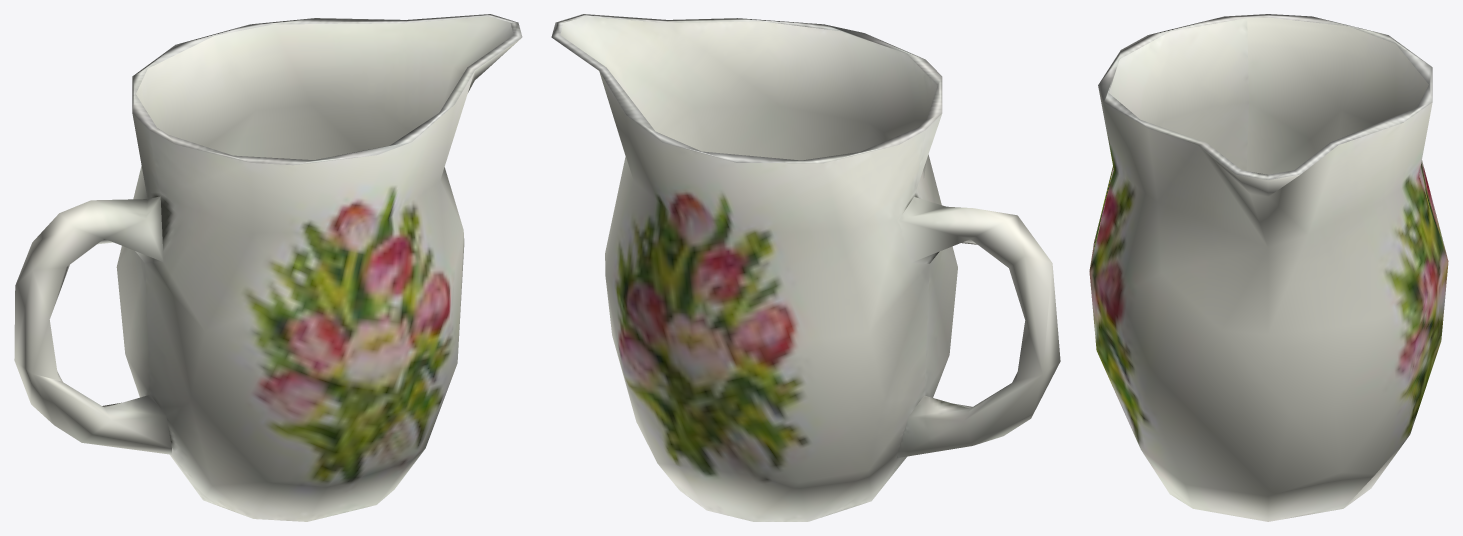
Rendered from jug.glb.
The picture shows the model from 3 angles, left to right: view 1: azimuth 30°, elevation 25°; view 2: azimuth 150°, elevation 25°; view 3: azimuth 270°, elevation 25°; orthographic projection.
Visible parts, largest first — view 1: jug; view 2: jug; view 3: jug.
Boxes of the visible parts, bbox=[...] form: jug: bbox=[14, 14, 522, 521]; jug: bbox=[551, 14, 1060, 521]; jug: bbox=[1089, 14, 1448, 521].
Size of the model in its own units: 0.2725 by 0.2103 by 0.1668.
Materials: 1 (1 with a texture image).
